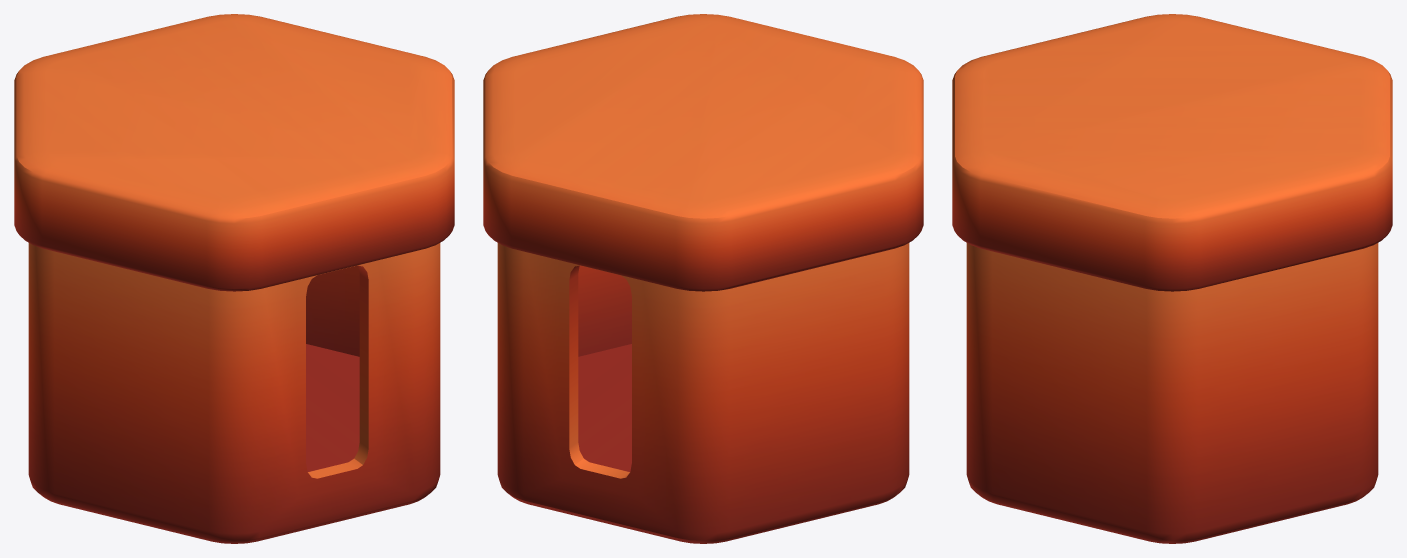
File: hexa box (1).fbx
The picture shows the model from 3 angles, left to right: view 1: azimuth 30°, elevation 25°; view 2: azimuth 150°, elevation 25°; view 3: azimuth 270°, elevation 25°; orthographic projection.
Parts seen in each view (by area): view 1: Cylinder.049, Cylinder.050; view 2: Cylinder.049, Cylinder.050; view 3: Cylinder.049, Cylinder.050.
Part boxes in pixels (left/top/right/bottom): Cylinder.049: left=28, top=243, right=440, bottom=543; Cylinder.050: left=14, top=14, right=454, bottom=291; Cylinder.049: left=497, top=243, right=909, bottom=543; Cylinder.050: left=483, top=14, right=923, bottom=291; Cylinder.049: left=966, top=243, right=1378, bottom=543; Cylinder.050: left=952, top=14, right=1392, bottom=291.
Bounding box in the file's own units: 207 × 162 × 186.
1 material, 1 textured.
